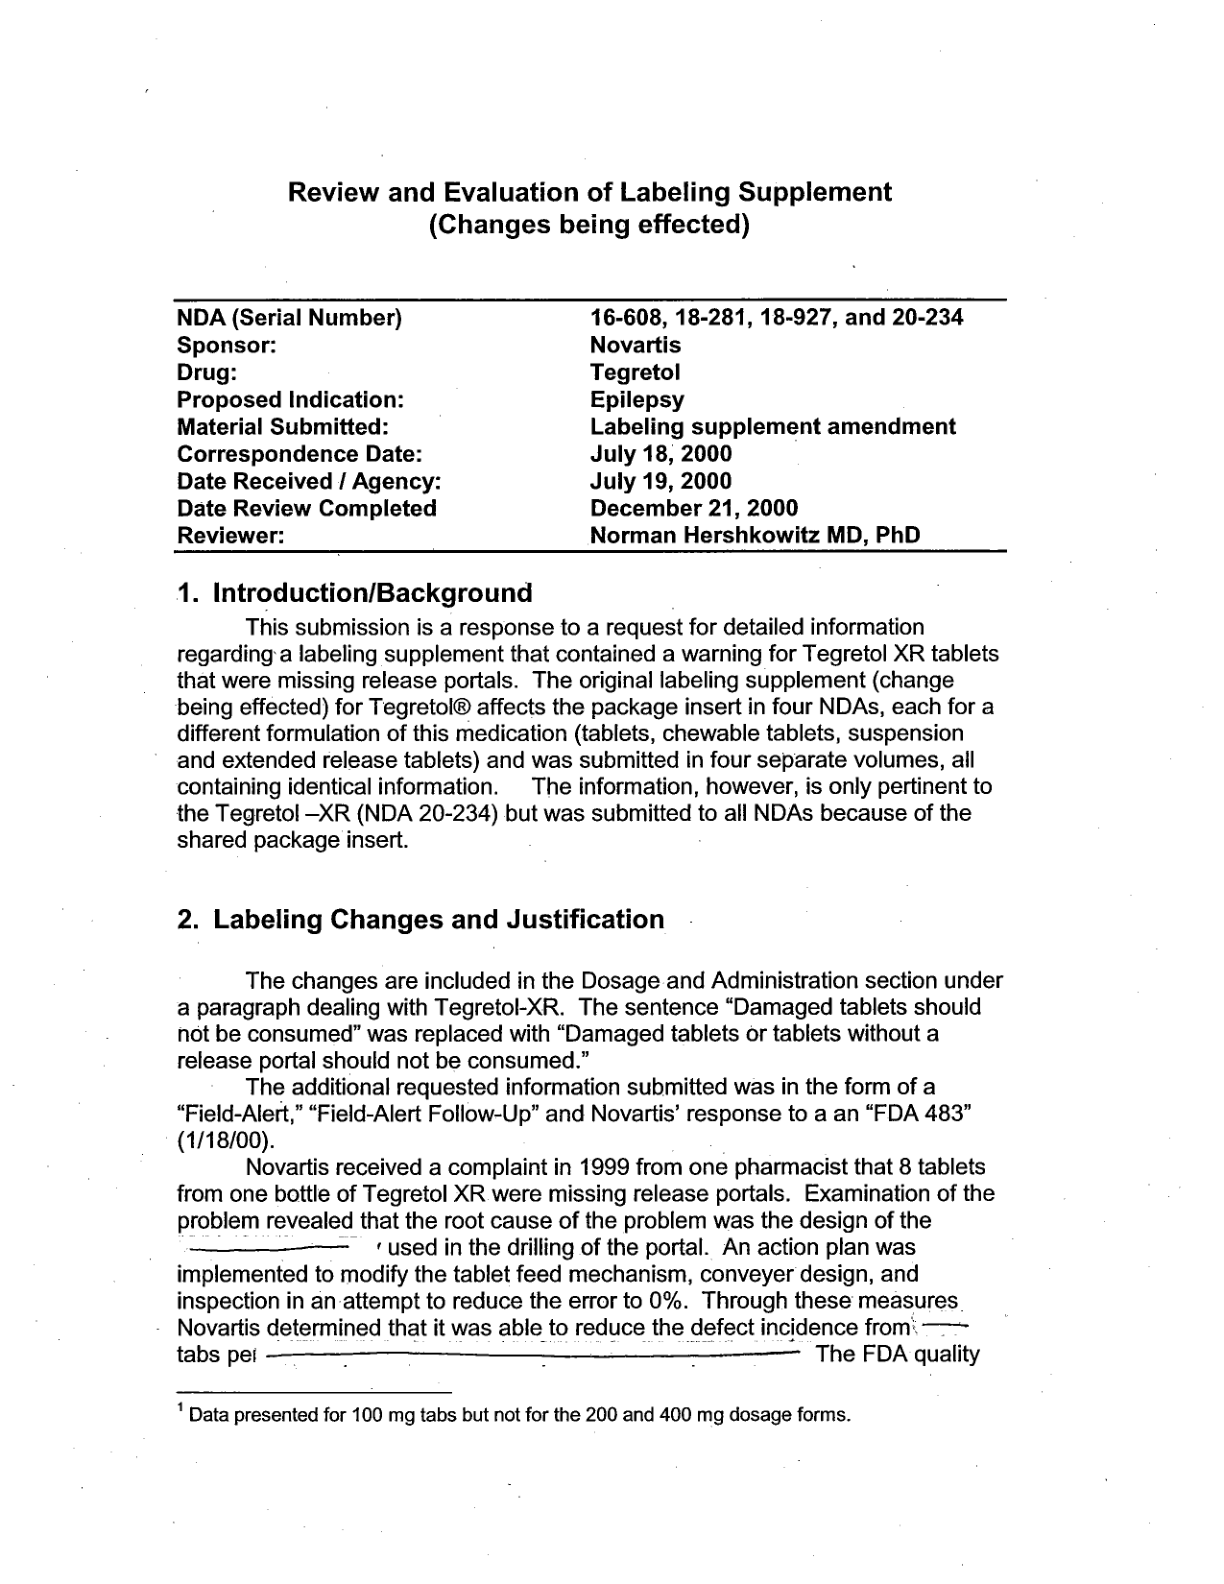partial_lined: (174, 298, 1005, 555)
